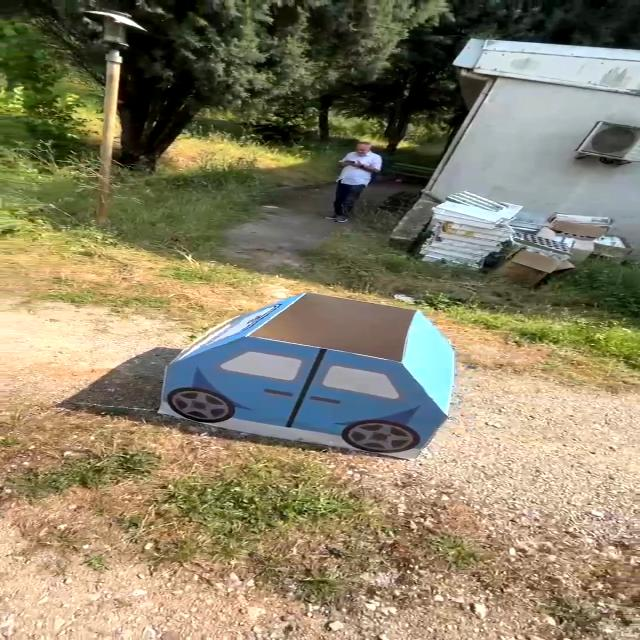blue_car: (132, 274, 479, 486)
